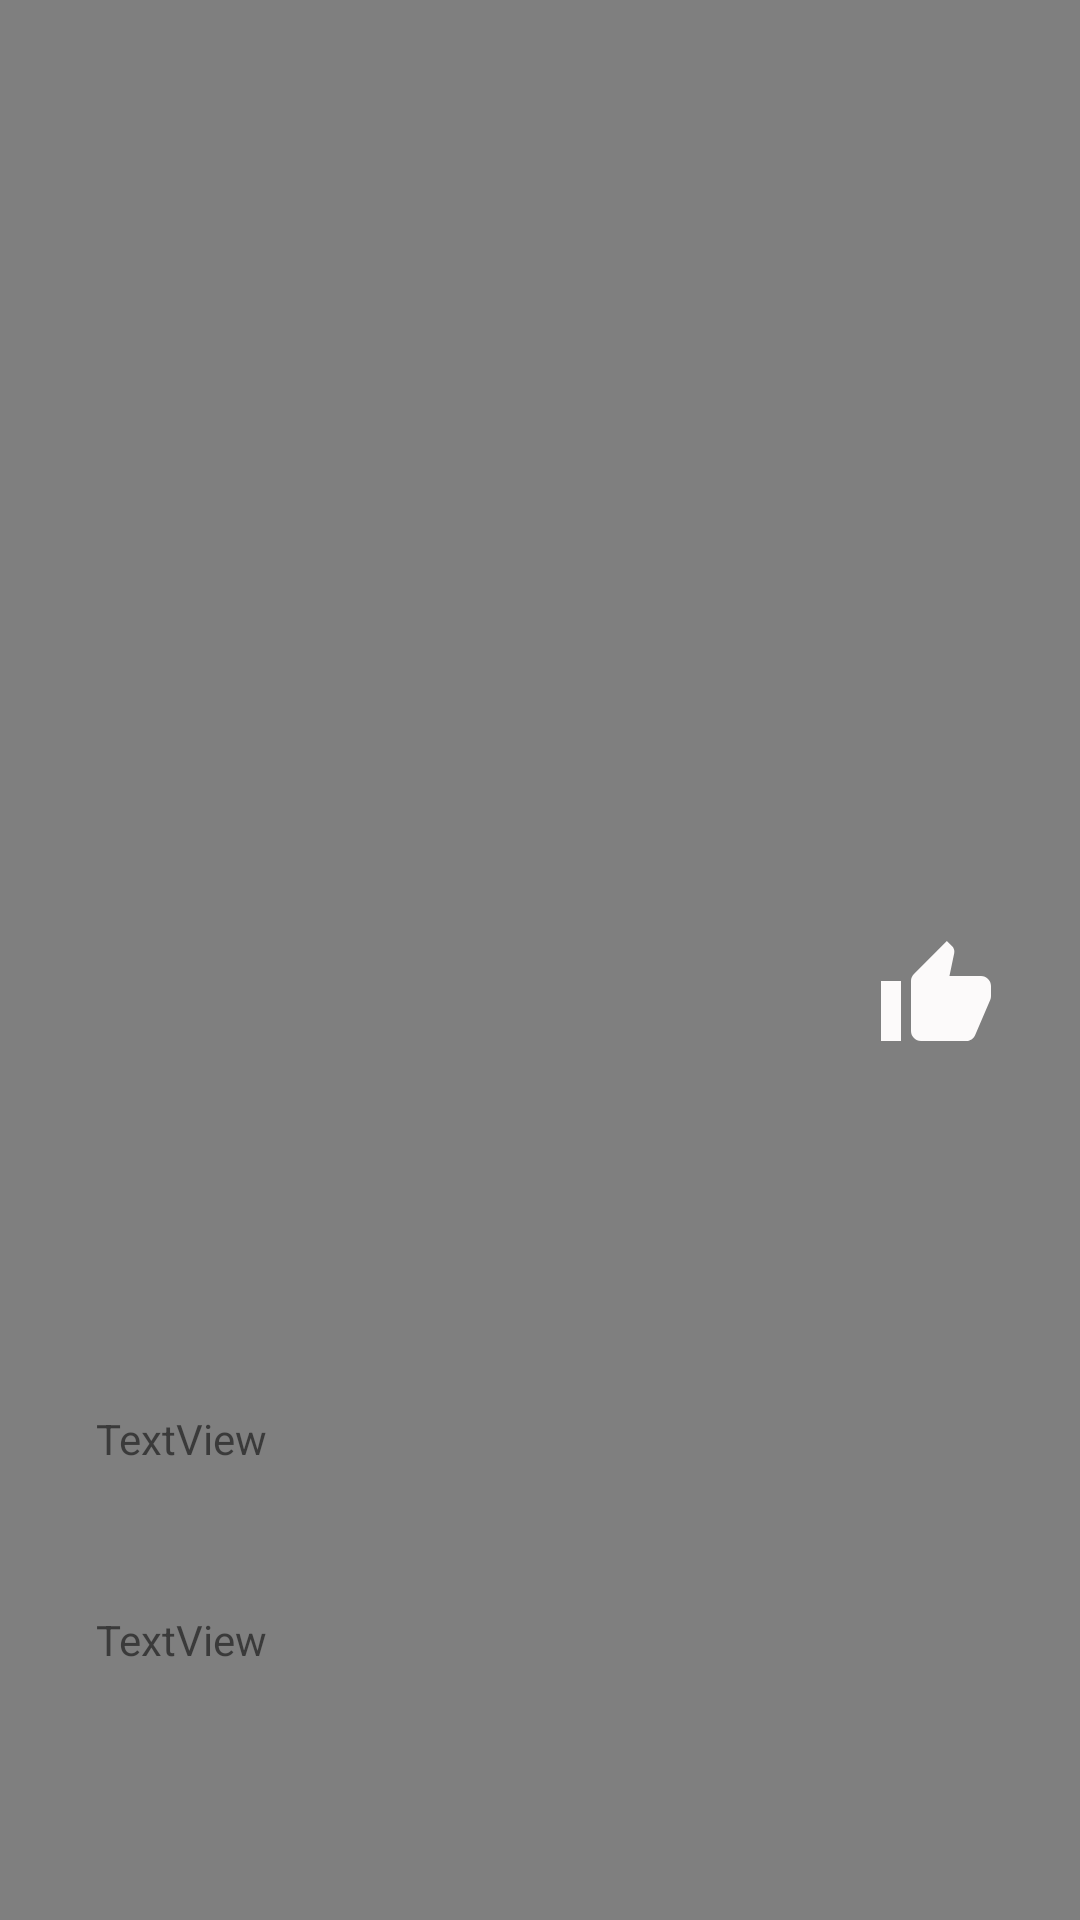

Named icons in this screenshot (1080 x 1920) and their bounding boxes, BBox(x1, y1, x2, y2):
thumb up: BBox(881, 941, 991, 1041)
